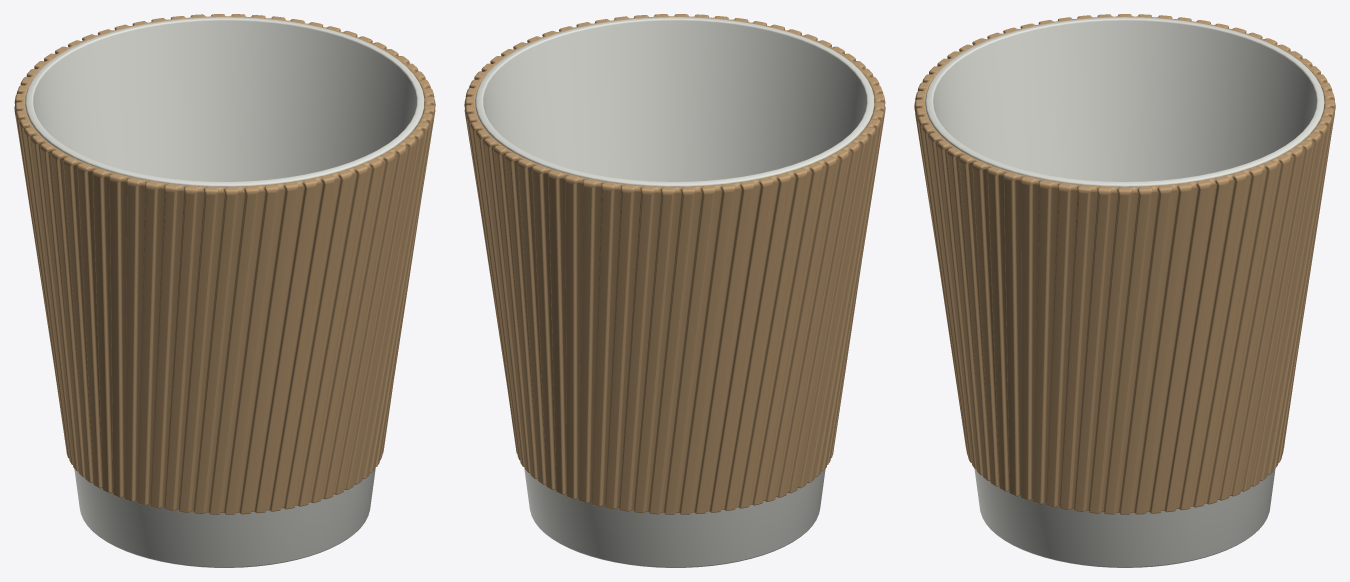
Rendered from consumable_cup_paper_a01.glb.
3 renders of one model, left to right at view 1: azimuth 30°, elevation 25°; view 2: azimuth 150°, elevation 25°; view 3: azimuth 270°, elevation 25°, orthographic.
Size of the model in its own units: 0.1038 by 0.1107 by 0.1038.
